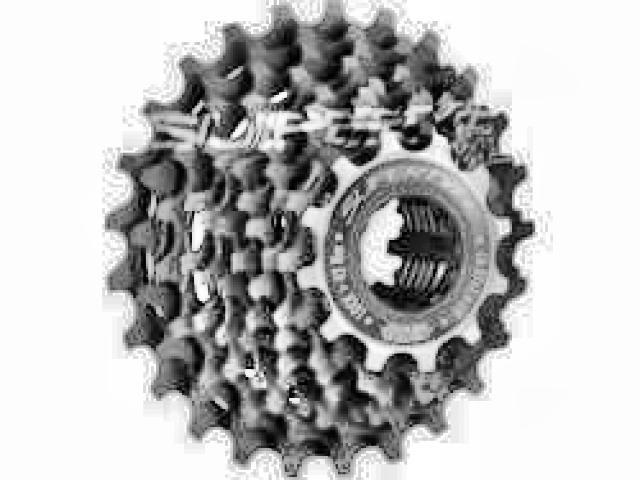cassette: (102, 1, 532, 477)
